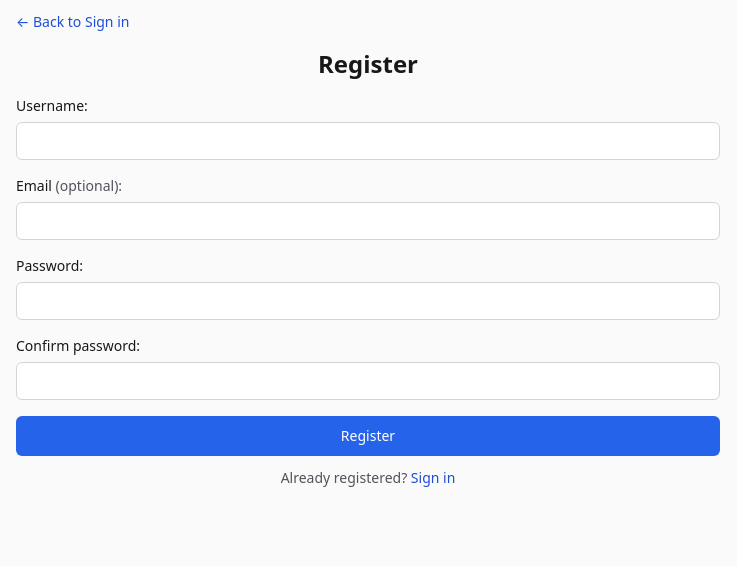
Test: Register › surfaces the API detail on validation failure
The image size is (737, 566).
Type "alice" into the field labelled "Username:".
click(368, 141); type("alice")  # box [16, 122, 720, 160]
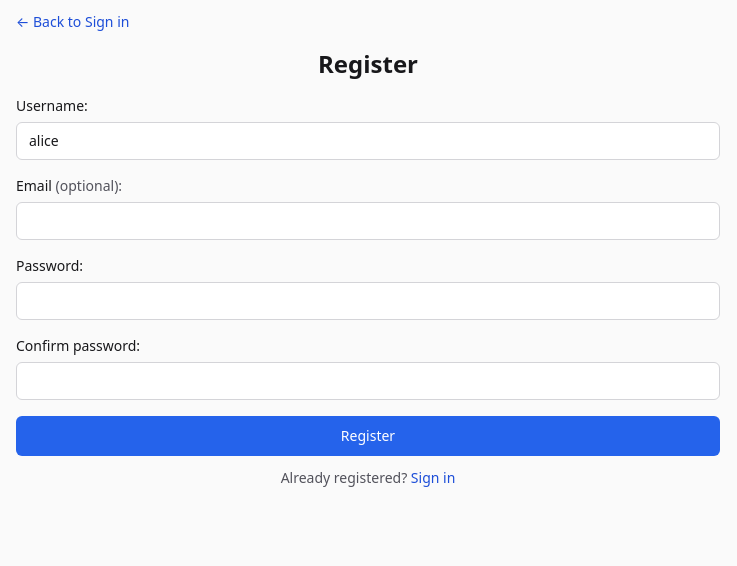
Type "S3cure!pass" into the password field labelled "Password:".
click(368, 301); type("S3cure!pass")  # box [16, 282, 720, 320]
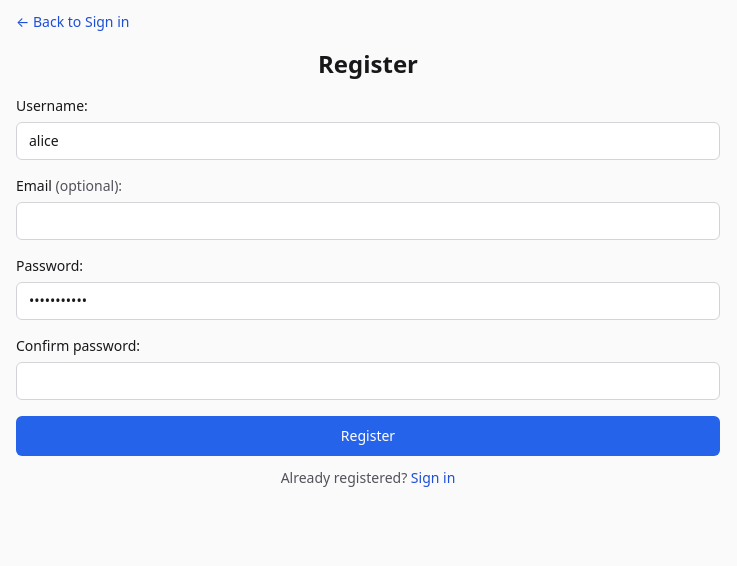
Type "S3cure!pass" into the password field labelled "Confirm password:".
click(368, 381); type("S3cure!pass")  # box [16, 362, 720, 400]
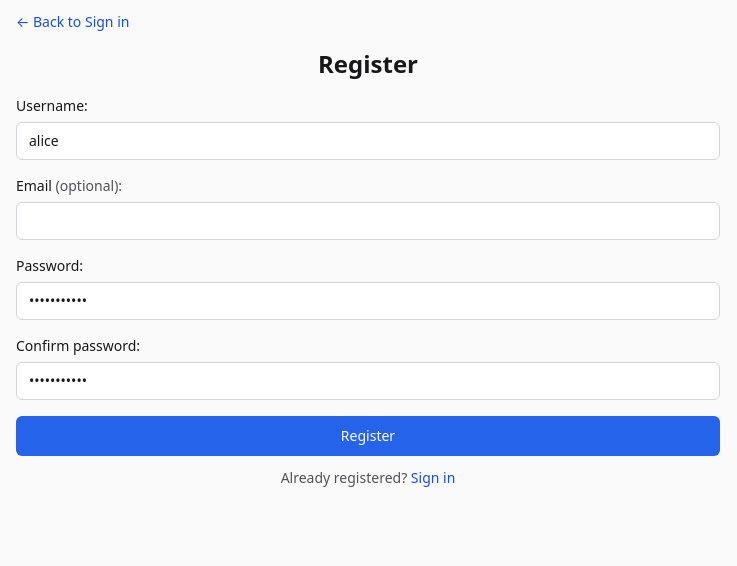
Click the button "Register".
click(368, 436)  # box [16, 416, 720, 456]
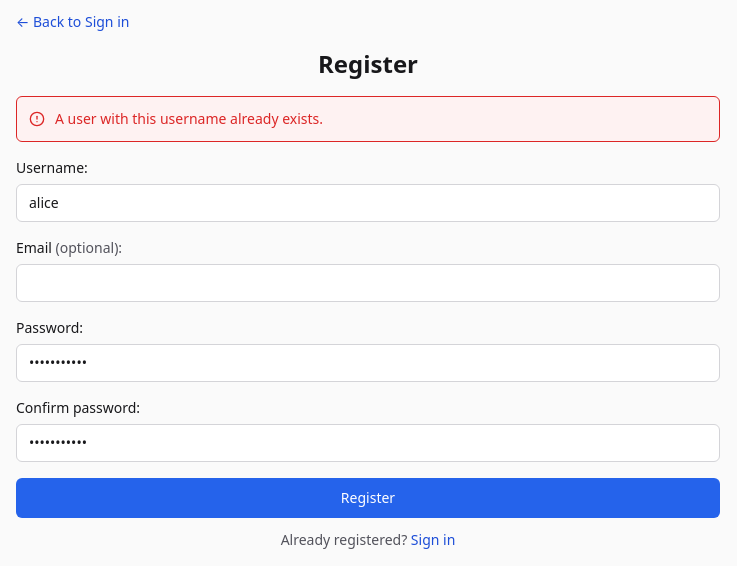
Expected: the text "A user with this username already exists." is shown, [55, 109, 323, 129]
